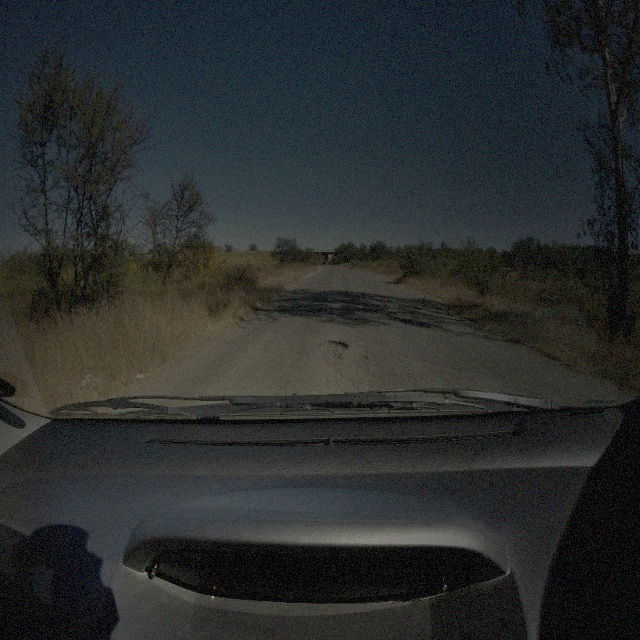pothole: (320, 338, 349, 358)
